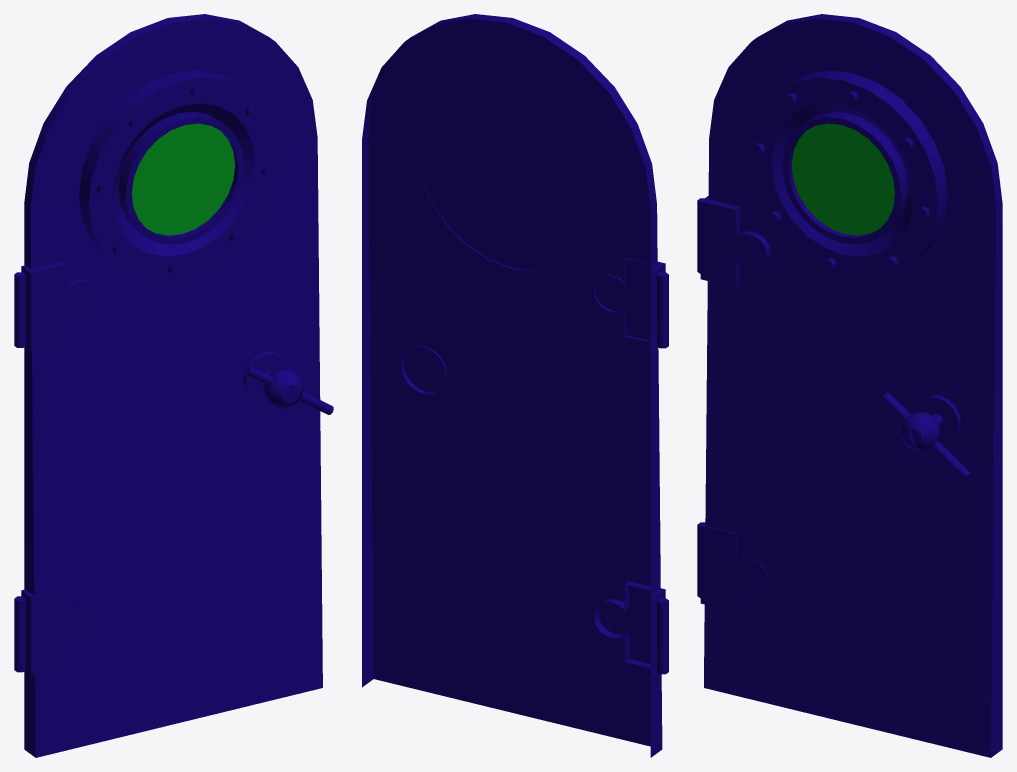
The model's file is Porte_01_4x4x0.FBX.
3 renders of one model, left to right at view 1: azimuth 30°, elevation 25°; view 2: azimuth 150°, elevation 25°; view 3: azimuth 330°, elevation 25°, orthographic.
Visible parts, largest first — view 1: Porte_01_4x4x0; view 2: Porte_01_4x4x0; view 3: Porte_01_4x4x0.
Boxes of the visible parts, box(x1,y1,x2,y2) form: Porte_01_4x4x0: box(14, 14, 333, 757); Porte_01_4x4x0: box(362, 14, 668, 757); Porte_01_4x4x0: box(697, 14, 1002, 757).
Bounding box in the file's own units: 125 × 277 × 25.12.
